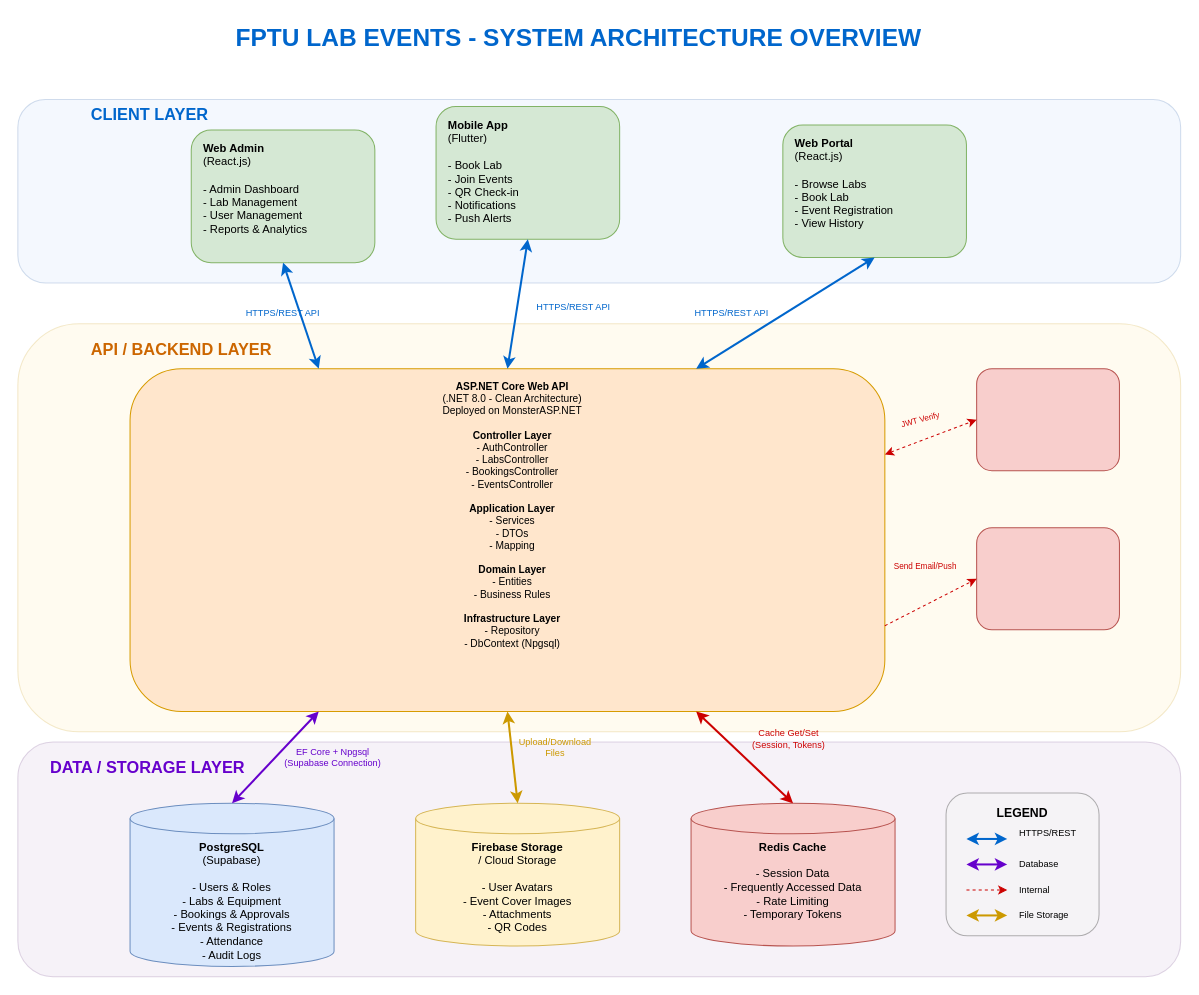
Some shapes in this 1199 by 995 pixel diagram are drawn without their labels. The box of each missing label's shape, as (x1, y1, x2, y2) in pixels:
Authentication - JWT Token - Google OAuth 2.0 - Refresh Token: (976, 368, 1119, 471)
Notification - Email (SMTP) - In-App - Push (Firebase): (976, 527, 1119, 630)
